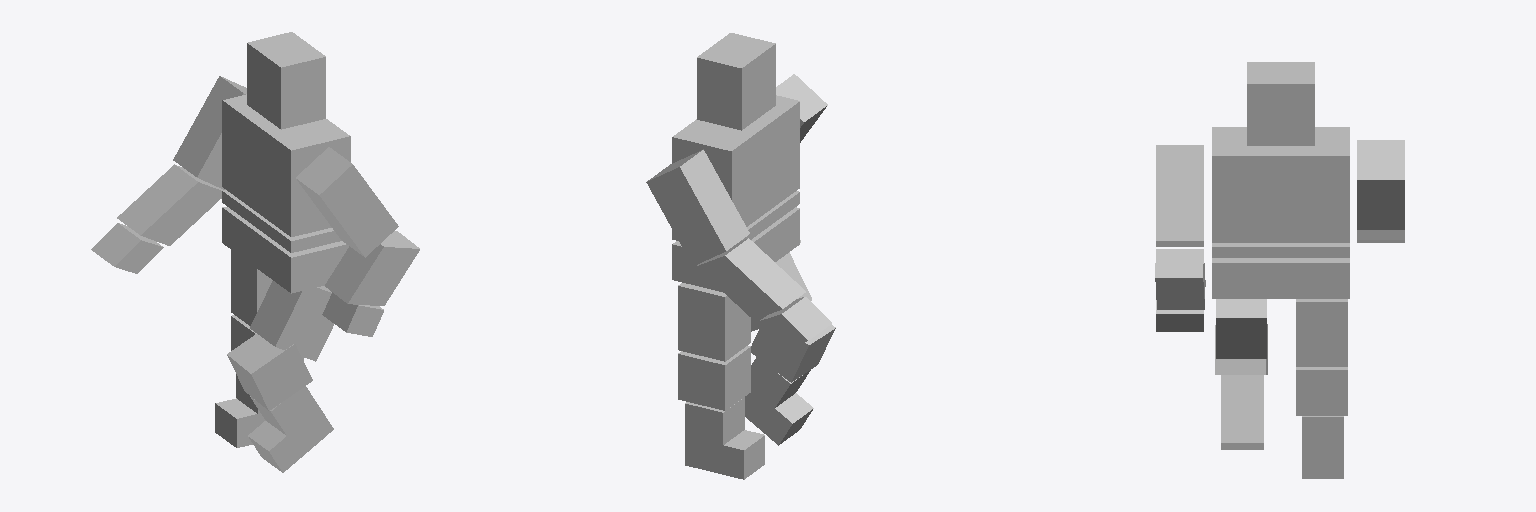
The model's file is POne1.obj.
3 renders of one model, left to right at view 1: azimuth 30°, elevation 25°; view 2: azimuth 150°, elevation 25°; view 3: azimuth 270°, elevation 25°, orthographic.
Parts seen in each view (by area): view 1: pasted__pasted__pCube3 pasted__group3 group4, pCube4, pasted__pCube4 group6, pCube3, pasted__pCube4 group8, group2 pasted__pasted__pCube2 pasted__group1, group8 pasted__pasted__pCube4 pasted__group6, pasted__pCube1 group5, pasted__pCube2 group1, pasted__pCube4 group7, pasted__pasted__pCube4 pasted__group8 group9, pCube1 (+3 smaller); view 2: pasted__pasted__pCube3 pasted__group3 group4, pasted__pCube4 group7, pCube4, pCube1, pasted__pCube4 group8, pasted__pCube2 group2, pasted__pCube1 group5, pCube2, pCube3, pasted__pCube2 group1, pasted__pasted__pCube4 pasted__group8 group9, pasted__pCube4 group6 (+2 smaller); view 3: pasted__pasted__pCube3 pasted__group3 group4, pCube4, pCube3, pasted__pCube4 group6, pasted__pCube4 group7, pasted__pCube2 group2, pasted__pCube1 group5, group2 pasted__pasted__pCube2 pasted__group1, group8 pasted__pasted__pCube4 pasted__group6, pCube1, pCube2, pasted__pCube3 group3 (+2 smaller).
Boxes of the visible parts, box(x1,y1,x2,y2) form: pasted__pasted__pCube3 pasted__group3 group4: box(222, 94, 350, 236); pCube4: box(247, 32, 325, 129); pasted__pCube4 group6: box(296, 147, 398, 257); pCube3: box(222, 207, 348, 293); pasted__pCube4 group8: box(117, 164, 223, 245); group2 pasted__pasted__pCube2 pasted__group1: box(250, 281, 333, 361); group8 pasted__pasted__pCube4 pasted__group6: box(325, 231, 419, 305); pasted__pCube1 group5: box(248, 386, 333, 472); pasted__pCube2 group1: box(227, 334, 312, 410); pasted__pCube4 group7: box(173, 76, 246, 189); pasted__pasted__pCube4 pasted__group8 group9: box(91, 223, 163, 273); pCube1: box(215, 374, 265, 447); pasted__pasted__pCube3 pasted__group3 group4: box(672, 95, 799, 226); pasted__pCube4 group7: box(646, 149, 749, 265); pCube4: box(697, 33, 775, 130); pCube1: box(685, 397, 764, 479); pasted__pCube4 group8: box(696, 238, 805, 319); pasted__pCube2 group2: box(678, 283, 750, 361); pasted__pCube1 group5: box(745, 357, 813, 445); pCube2: box(678, 346, 750, 410); pCube3: box(672, 207, 799, 292); pasted__pCube2 group1: box(751, 324, 835, 382); pasted__pasted__pCube4 pasted__group8 group9: box(760, 297, 831, 347); pasted__pCube4 group6: box(776, 74, 827, 142); pasted__pasted__pCube3 pasted__group3 group4: box(1212, 127, 1349, 242); pCube4: box(1247, 62, 1314, 145); pCube3: box(1212, 258, 1349, 298); pasted__pCube4 group6: box(1156, 145, 1203, 246); pasted__pCube4 group7: box(1357, 140, 1404, 229); pasted__pCube2 group2: box(1296, 299, 1347, 366); pasted__pCube1 group5: box(1221, 375, 1263, 449); group2 pasted__pasted__pCube2 pasted__group1: box(1216, 299, 1266, 358); group8 pasted__pasted__pCube4 pasted__group6: box(1155, 249, 1205, 309); pCube1: box(1302, 416, 1343, 478); pCube2: box(1296, 367, 1347, 415); pasted__pCube3 group3: box(1212, 243, 1349, 257).
Bounding box in the file's own units: 3.48 × 6.39 × 3.65.